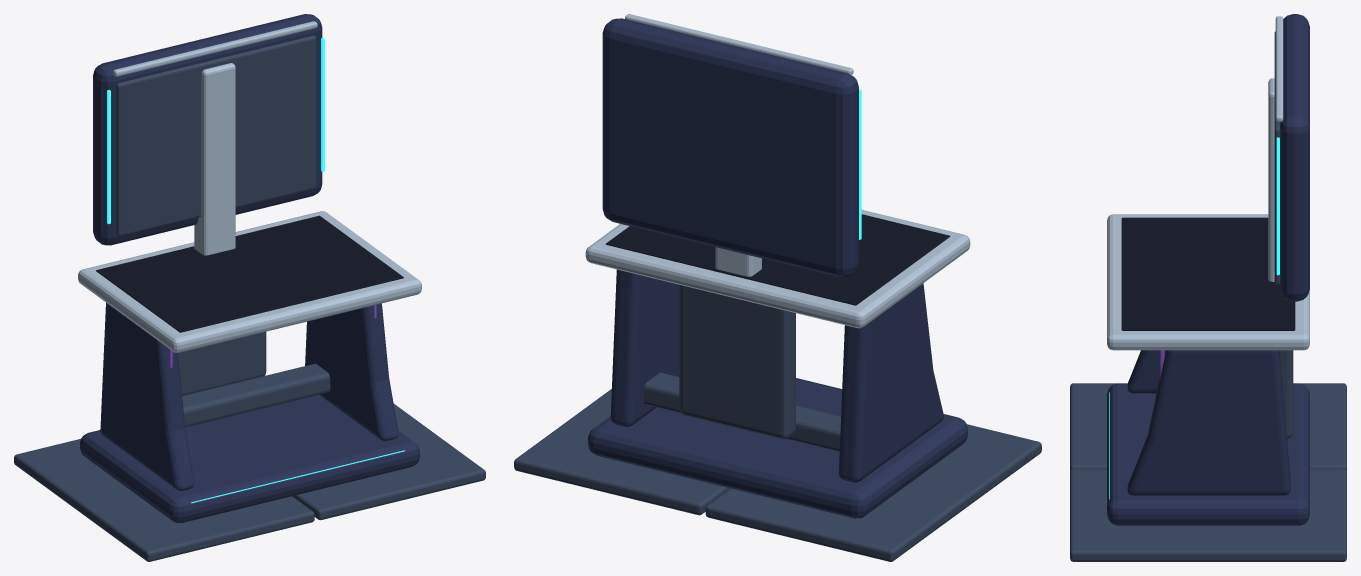
File: showroom-stand.glb
3 renders of one model, left to right at view 1: azimuth 30°, elevation 25°; view 2: azimuth 150°, elevation 25°; view 3: azimuth 270°, elevation 25°, orthographic. The views are drawn at different scales.
Parts seen in each view (by area): view 1: Dosseret insertion, Socle indigo biseaute, Plateau caoutchouc, Stand_Hatch_Left, Flanc porteur -1, Dosseret moniteur, Plateau aluminium, Flanc porteur 1, Stand_Hatch_Right, Montant ecran aluminium, Traverse basse, Fond goulotte technique (+1 smaller); view 2: Dosseret moniteur, Socle indigo biseaute, Stand_Hatch_Left, Fond goulotte technique, Flanc porteur -1, Plateau aluminium, Plateau caoutchouc, Stand_Hatch_Right, Flanc porteur 1, Traverse basse, Dosseret couronne, Montant ecran aluminium; view 3: Flanc porteur 1, Plateau caoutchouc, Stand_Hatch_Right, Socle indigo biseaute, Dosseret moniteur, Plateau aluminium, Stand_Hatch_Left, Montant ecran aluminium, Flanc porteur -1, Fond goulotte technique, Dosseret couronne, Dosseret insertion (+1 smaller).
Boxes of the visible parts, left/top/right/bottom form: Dosseret insertion: left=116, top=35, right=316, bottom=236; Socle indigo biseaute: left=80, top=395, right=419, bottom=522; Plateau caoutchouc: left=96, top=215, right=403, bottom=332; Stand_Hatch_Left: left=14, top=439, right=314, bottom=561; Flanc porteur -1: left=100, top=302, right=194, bottom=490; Dosseret moniteur: left=93, top=14, right=322, bottom=245; Plateau aluminium: left=78, top=211, right=421, bottom=352; Flanc porteur 1: left=305, top=303, right=398, bottom=441; Stand_Hatch_Right: left=292, top=404, right=485, bottom=520; Montant ecran aluminium: left=194, top=63, right=235, bottom=255; Traverse basse: left=182, top=363, right=330, bottom=427; Fond goulotte technique: left=178, top=331, right=266, bottom=395; Dosseret moniteur: left=602, top=18, right=858, bottom=277; Socle indigo biseaute: left=588, top=378, right=967, bottom=518; Stand_Hatch_Left: left=705, top=424, right=1041, bottom=561; Fond goulotte technique: left=679, top=285, right=795, bottom=439; Flanc porteur -1: left=839, top=283, right=943, bottom=482; Plateau aluminium: left=585, top=209, right=970, bottom=328; Plateau caoutchouc: left=605, top=214, right=950, bottom=305; Stand_Hatch_Right: left=514, top=389, right=730, bottom=515; Flanc porteur 1: left=610, top=269, right=679, bottom=426; Traverse basse: left=644, top=372, right=840, bottom=451; Dosseret couronne: left=625, top=14, right=853, bottom=75; Montant ecran aluminium: left=715, top=247, right=761, bottom=276; Flanc porteur 1: left=1127, top=350, right=1290, bottom=495; Plateau caoutchouc: left=1121, top=217, right=1295, bottom=330; Stand_Hatch_Right: left=1070, top=469, right=1346, bottom=561; Socle indigo biseaute: left=1107, top=383, right=1309, bottom=525; Dosseret moniteur: left=1280, top=14, right=1309, bottom=301; Plateau aluminium: left=1107, top=214, right=1309, bottom=350; Stand_Hatch_Left: left=1070, top=383, right=1346, bottom=471; Montant ecran aluminium: left=1268, top=78, right=1274, bottom=281; Flanc porteur -1: left=1127, top=350, right=1165, bottom=393; Fond goulotte technique: left=1279, top=350, right=1293, bottom=439; Dosseret couronne: left=1275, top=16, right=1283, bottom=121; Dosseret insertion: left=1274, top=31, right=1280, bottom=285.
Bounding box in the file's own units: 2.18 × 2.47 × 1.5.
